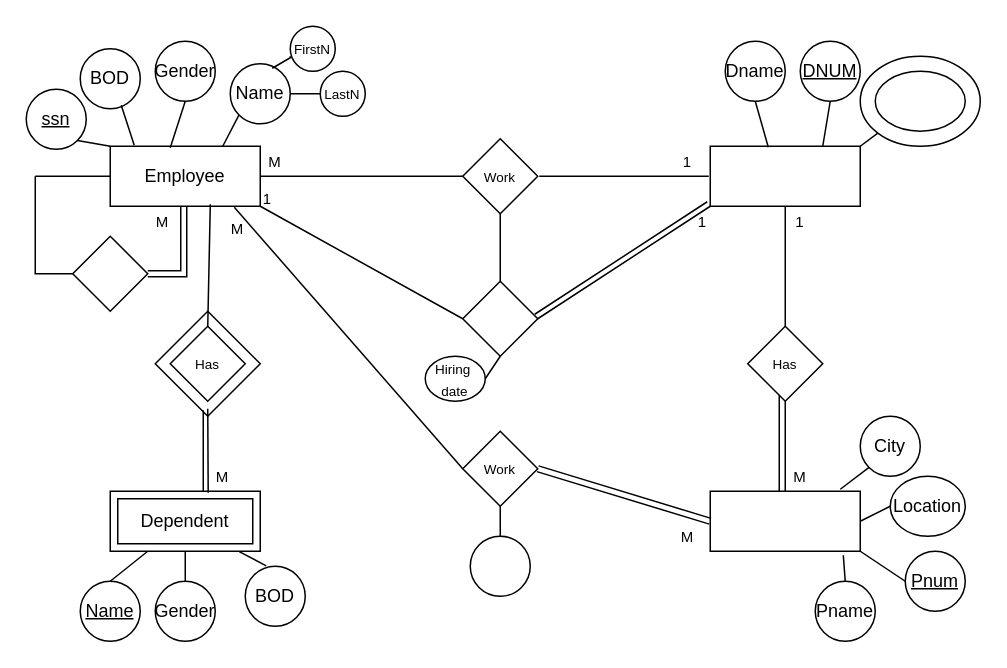
This 1007x668 diagram has some shape labels left out. Each missing label, with the centre of its shape:
"Department" belongs at point (784, 175).
"Locations" belongs at point (919, 100).
"manage" belongs at point (499, 318).
"Project" belongs at point (784, 520).
"supervious" belongs at point (109, 273).
"Work hours" belongs at point (499, 565).
